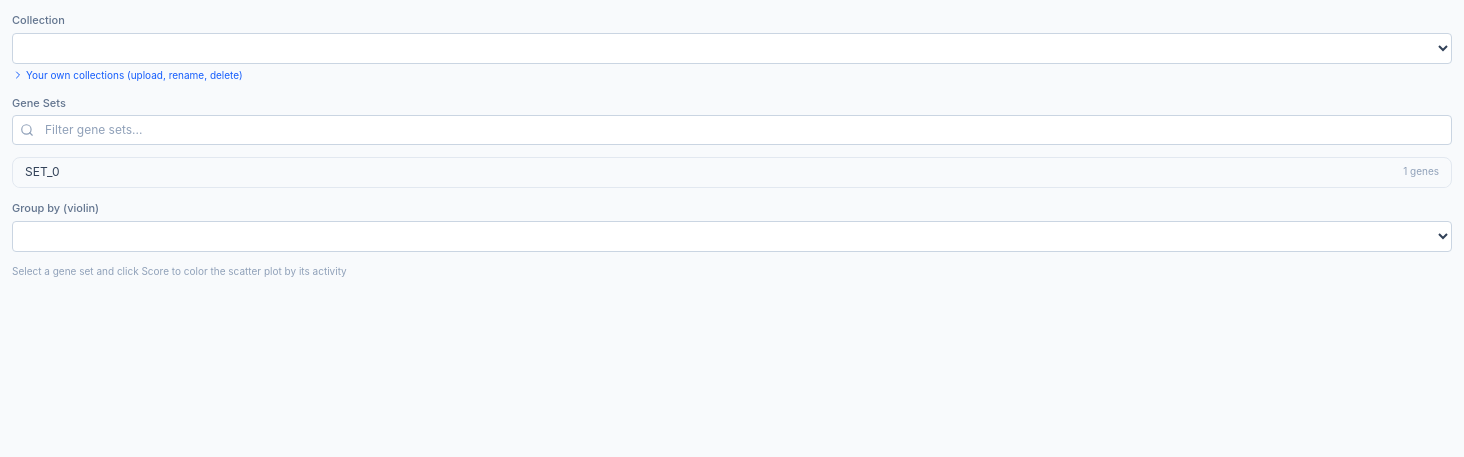
Test: UnifiedGeneSetsSubtab scoring method › shows how GSVA scored, and why a score was refused
Click the text "SET_0" at [42, 172], box [25,164,60,180]
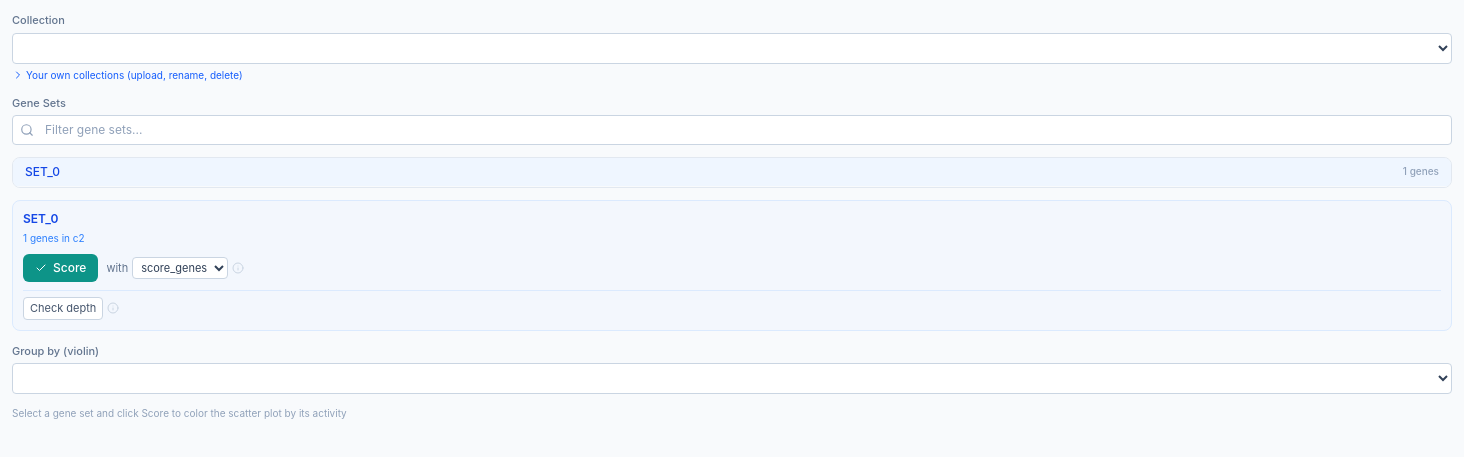
Select "GSVA" in the dropdown named "Gene-set scoring method" at [180, 268], box [132,257,228,279]
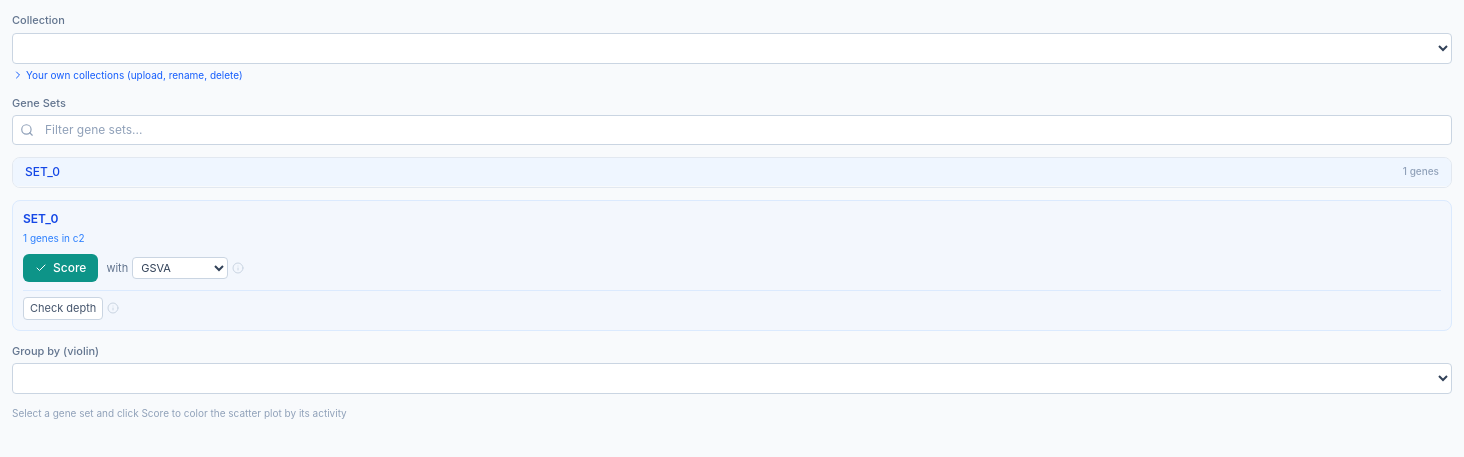
Click the button "Score" at [61, 268], box [23,254,98,282]
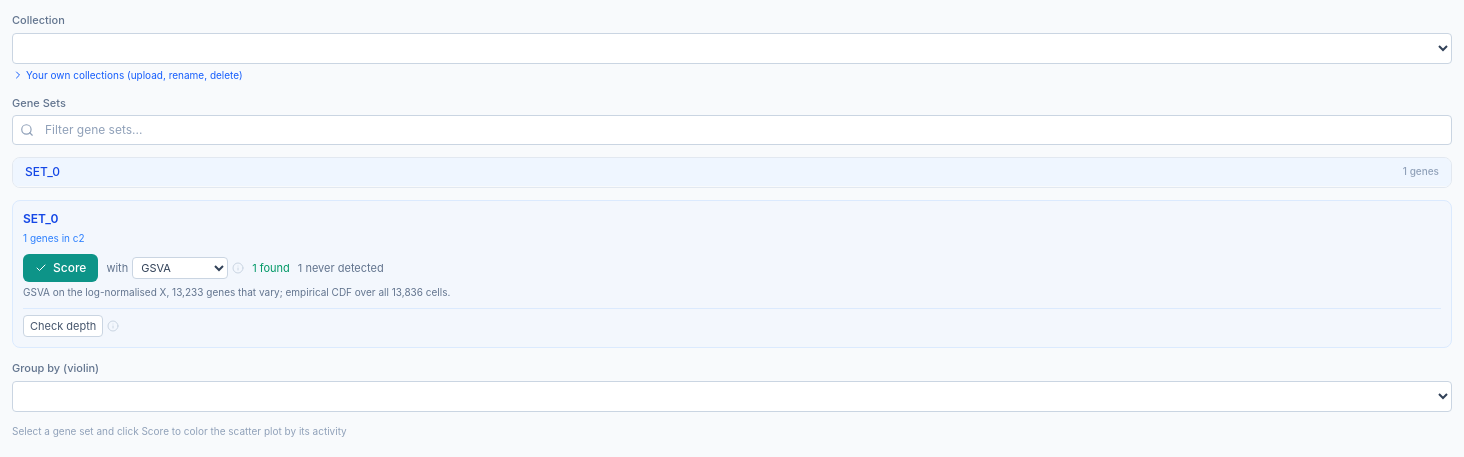
Expected: the text with test id "score-note" shows "empirical CDF over all 13,836 cells.", [23,286,450,298]
Select "ssGSEA" in the dropdown named "Gene-set scoring method" at [180, 268], box [132,257,228,279]
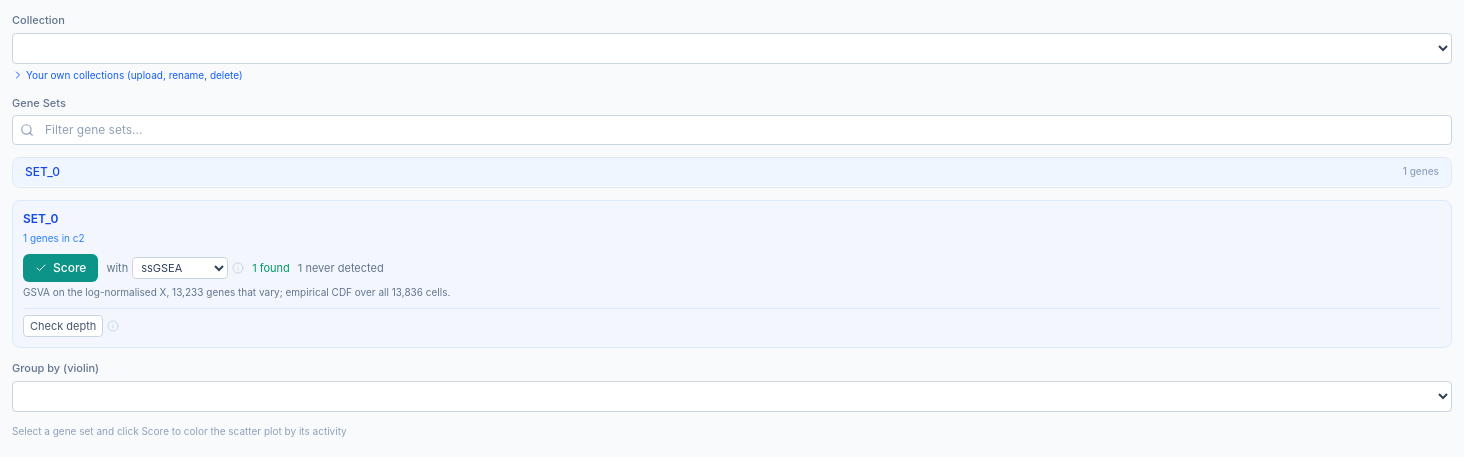
Click the button "Score" at [61, 268], box [23,254,98,282]
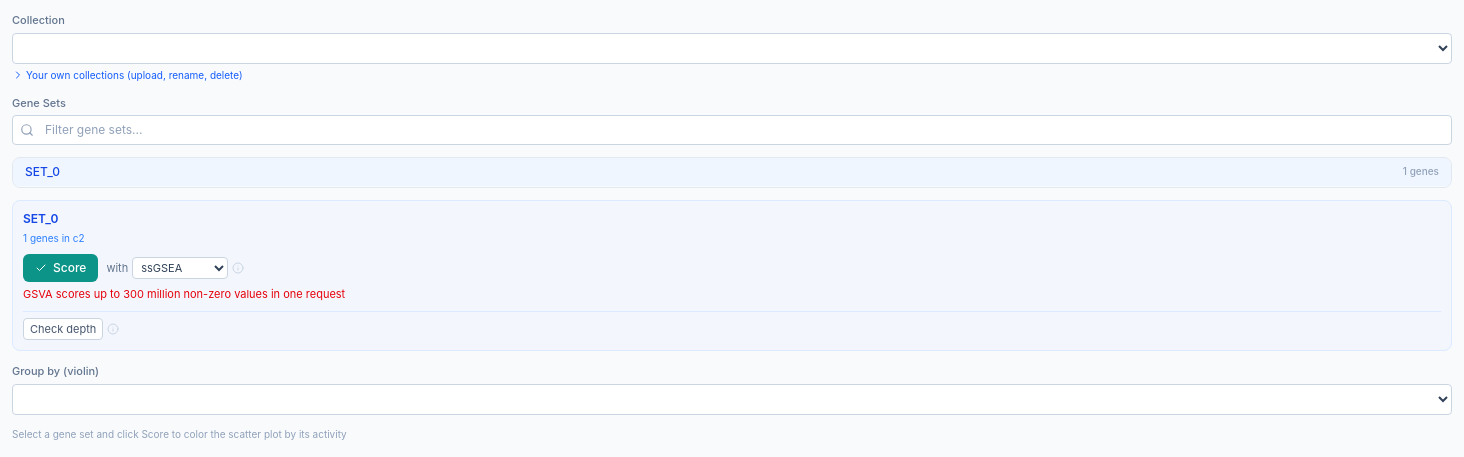
Expected: the message shows "GSVA scores up to 300 million", [23,287,345,301]
Expected: the text with test id "score-note" is gone
